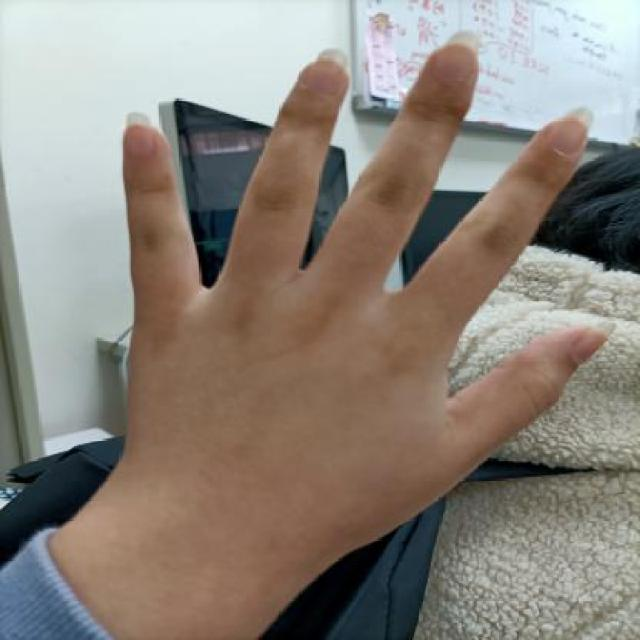no_glove: (49, 11, 631, 618)
